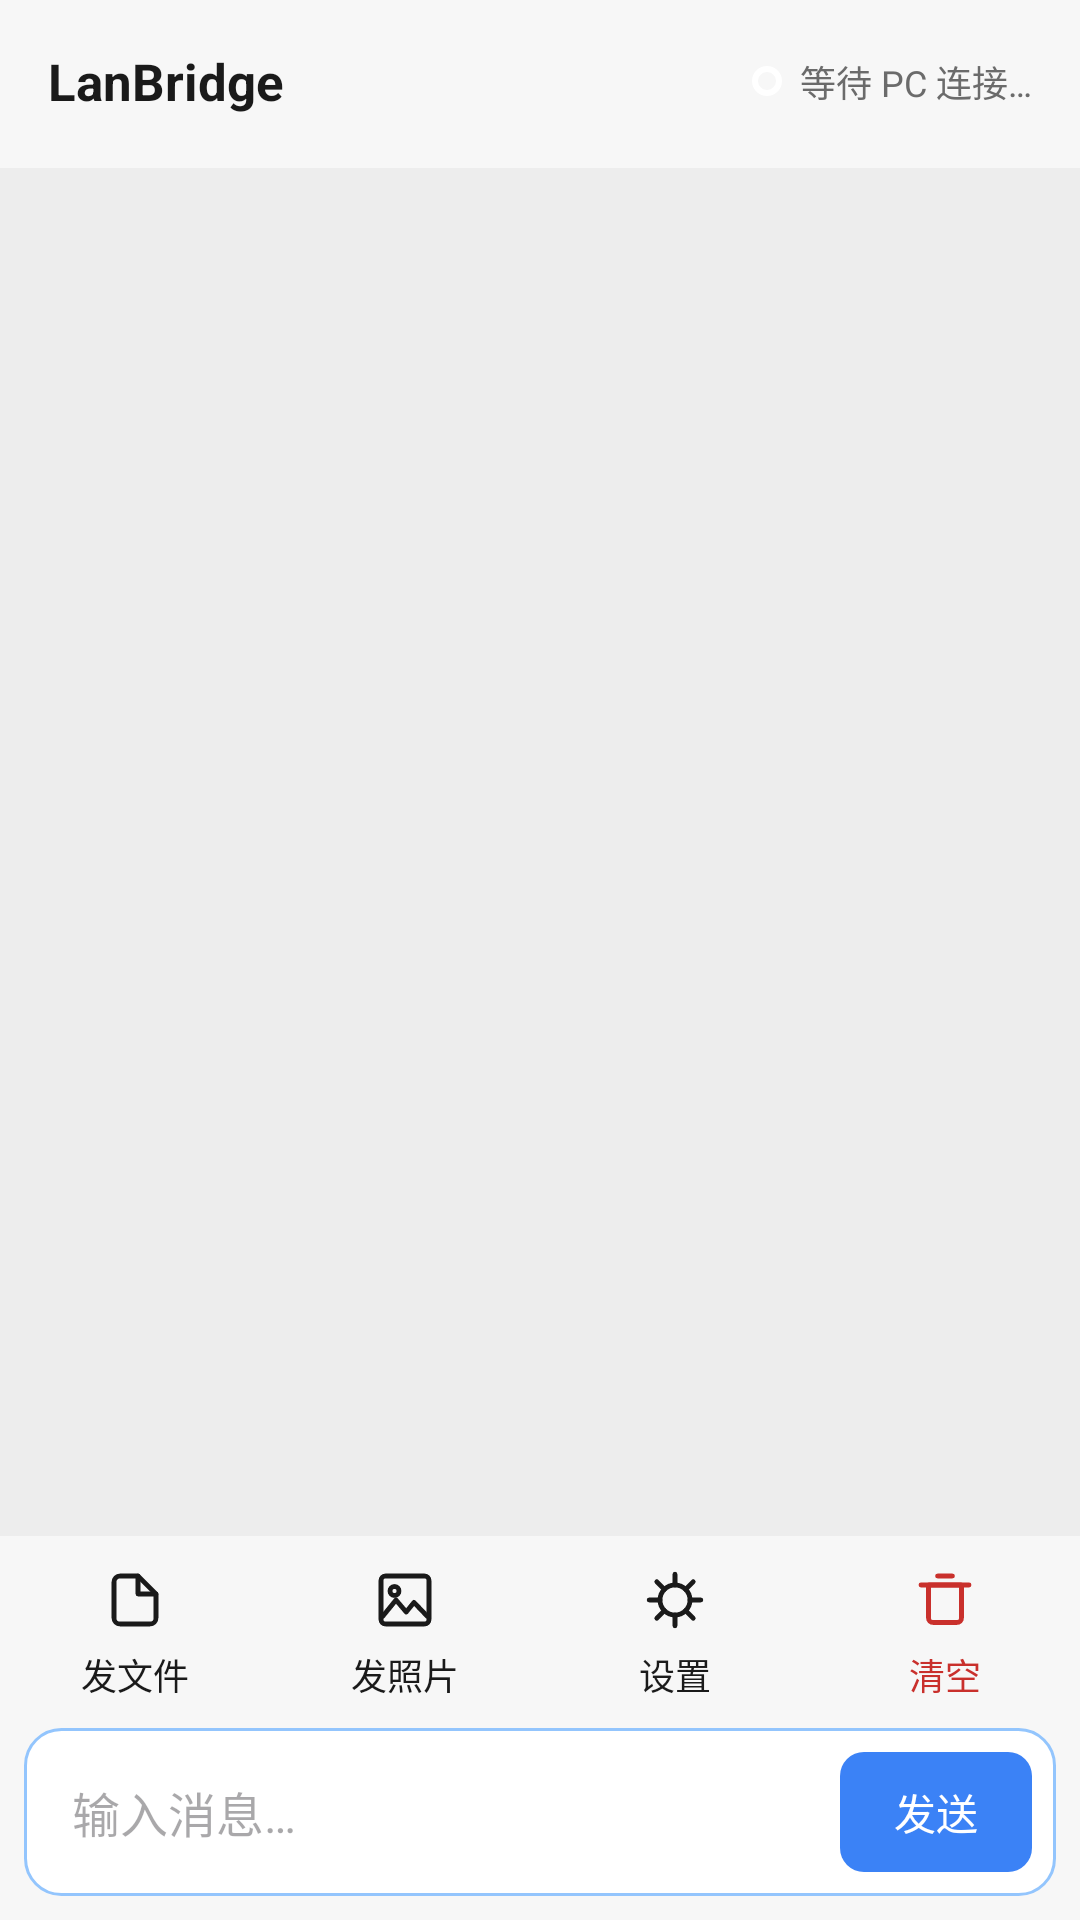

Named icons in this screenshot (1080*1920) and their bounding boxes, (x1, y1, x2, y2):
trash: (918, 1573, 972, 1625)
